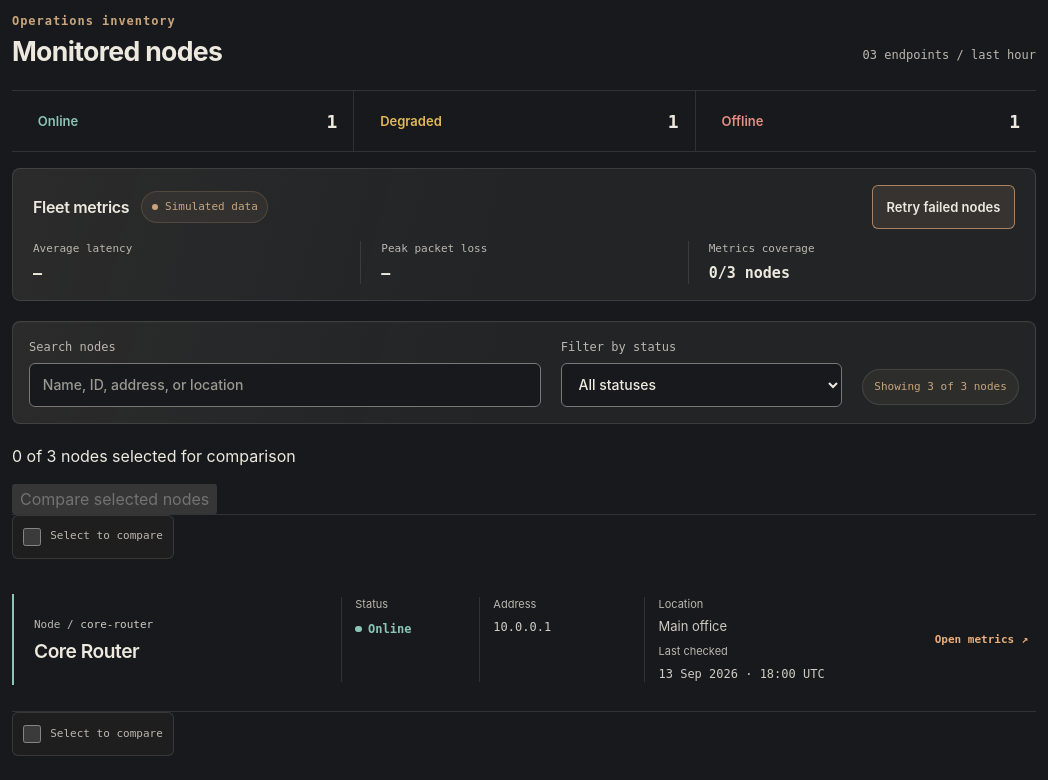
Scenario: NetworkNodesPanel › activates the Online fleet count with a pointer
Step 1. Click the button with aria-label "Online, 1" → (58, 122), box left=28, top=100, right=88, bottom=144
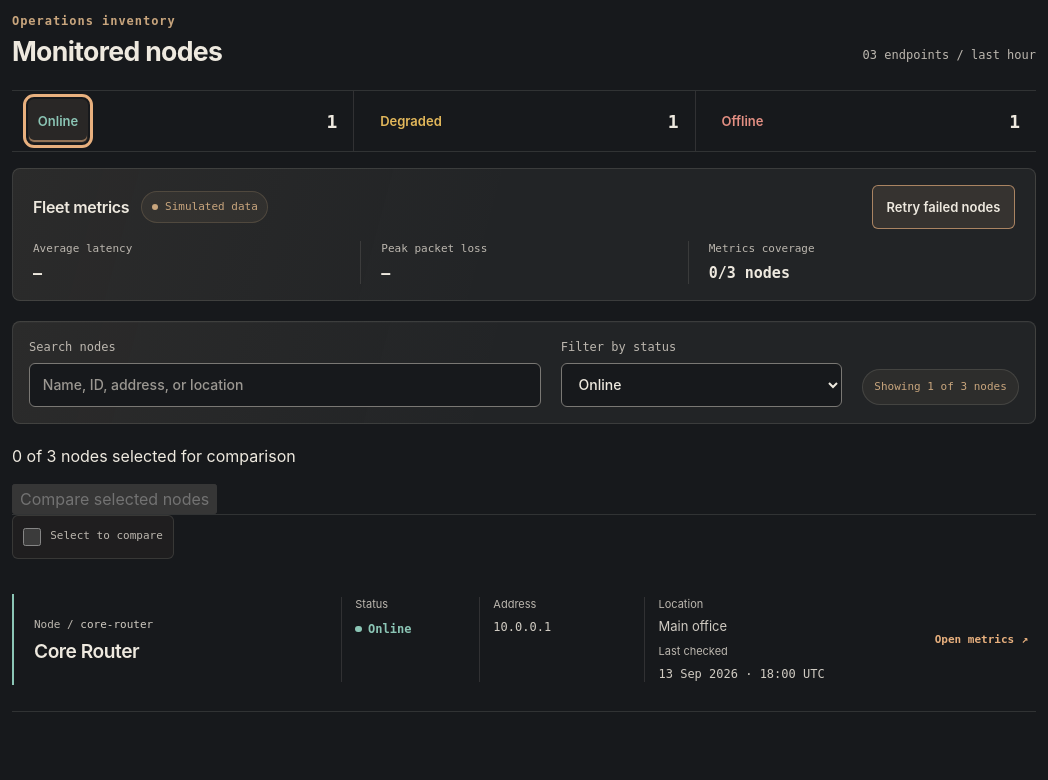
expect the dropdown labelled "Filter by status" shows "Online": met, box left=561, top=362, right=842, bottom=406
expect the number of links named "View metrics for" is 1: met, box left=12, top=569, right=1036, bottom=712
